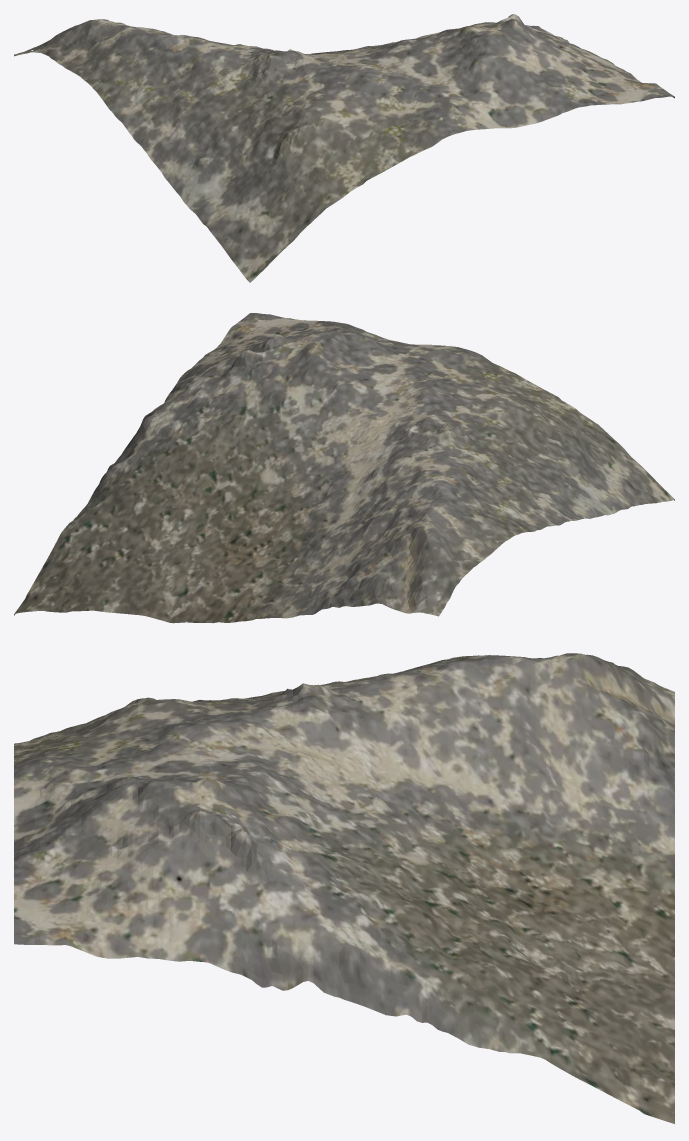
3 views of the same model, one above another, from view 1: azimuth 30°, elevation 25°; view 2: azimuth 150°, elevation 25°; view 3: azimuth 270°, elevation 25° (orthographic). The views are drawn at different scales.
Bounding box in the file's own units: 250 × 103 × 241.
Materials: 1 (1 with a texture image).
